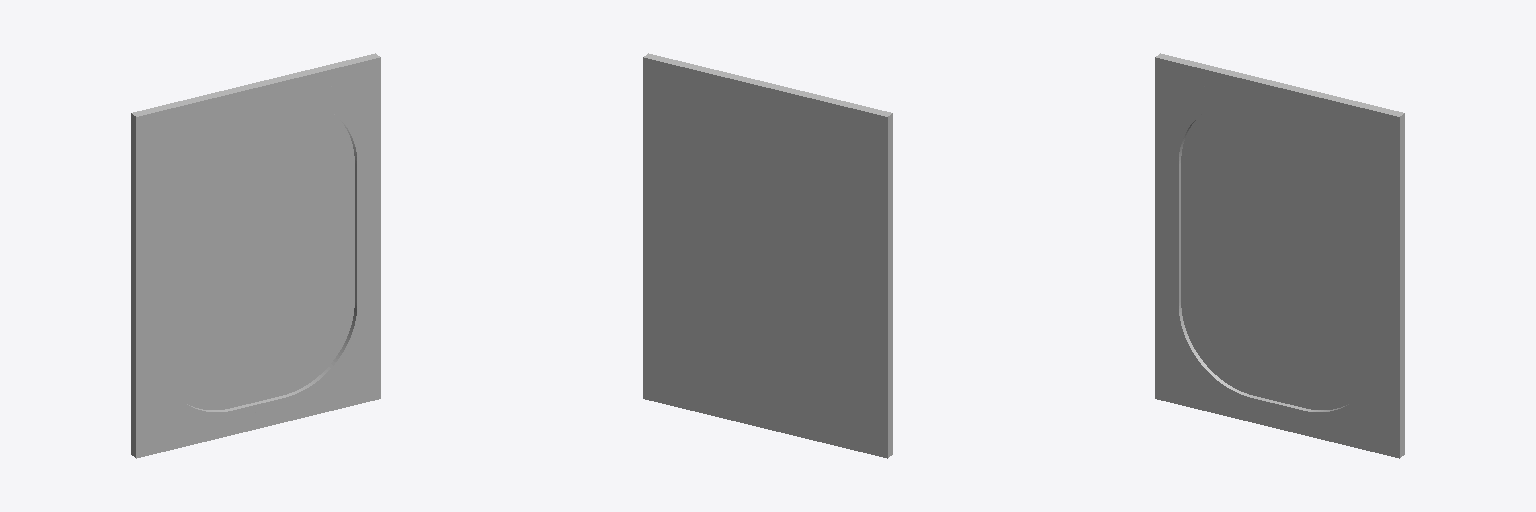
The model's file is painting-a.obj.
3 views of the same model, side by side, from view 1: azimuth 30°, elevation 25°; view 2: azimuth 150°, elevation 25°; view 3: azimuth 330°, elevation 25° (orthographic).
Visible parts, largest first — view 1: canvas, frame-4, frame-1, frame-2, frame-3, frame-5; view 2: canvas, frame-1, frame-2, frame-4, frame-3, frame-5; view 3: canvas, frame-1, frame-4, frame-2, frame-3, frame-5.
Boxes of the visible parts, <box> form: canvas: <box>160,104,354,409</box>; frame-4: <box>133,73,380,441</box>; frame-1: <box>131,56,373,455</box>; frame-2: <box>131,64,380,449</box>; frame-3: <box>131,53,380,458</box>; frame-5: <box>137,57,380,457</box>; canvas: <box>667,88,863,427</box>; frame-1: <box>643,57,888,458</box>; frame-2: <box>643,64,892,449</box>; frame-4: <box>643,73,887,441</box>; frame-3: <box>644,53,892,456</box>; frame-5: <box>643,60,889,451</box>; canvas: <box>1181,104,1375,409</box>; frame-1: <box>1160,53,1404,455</box>; frame-4: <box>1155,73,1399,441</box>; frame-2: <box>1155,64,1402,449</box>; frame-3: <box>1155,54,1404,458</box>; frame-5: <box>1155,57,1401,457</box>.
Bounding box in the file's own units: 260 × 347 × 10.